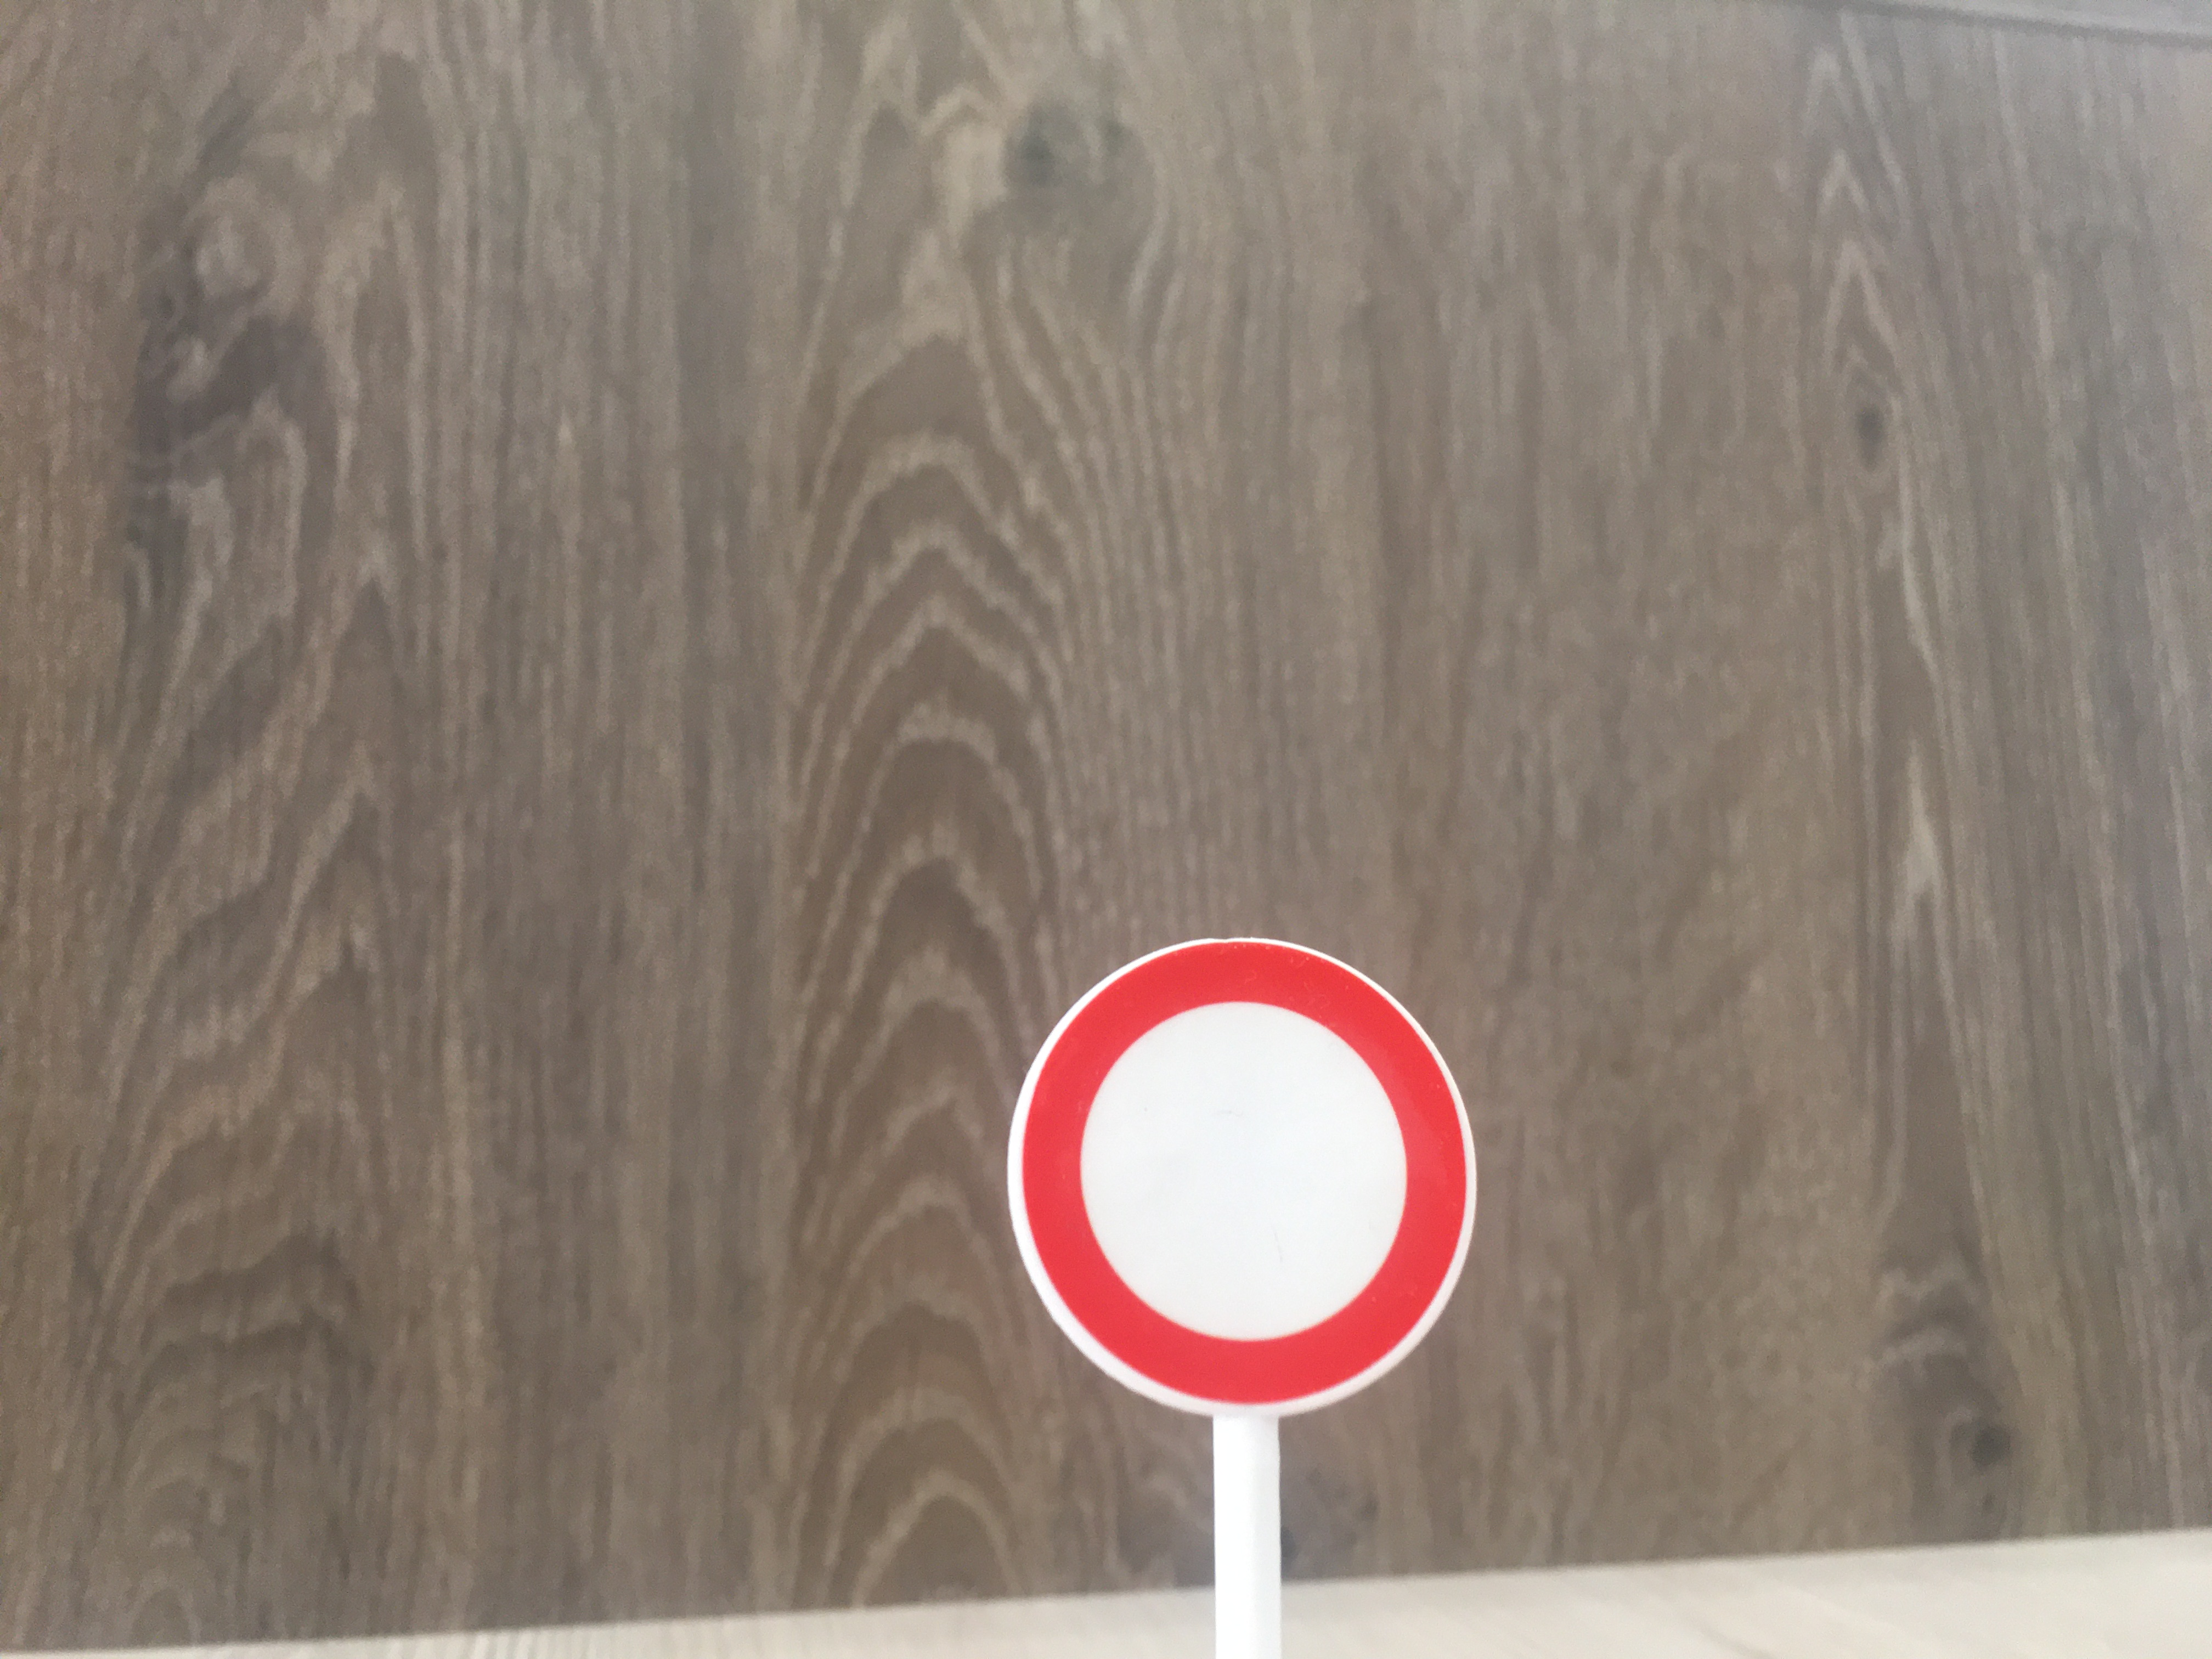noDrive: (1005, 939, 1482, 1415)
